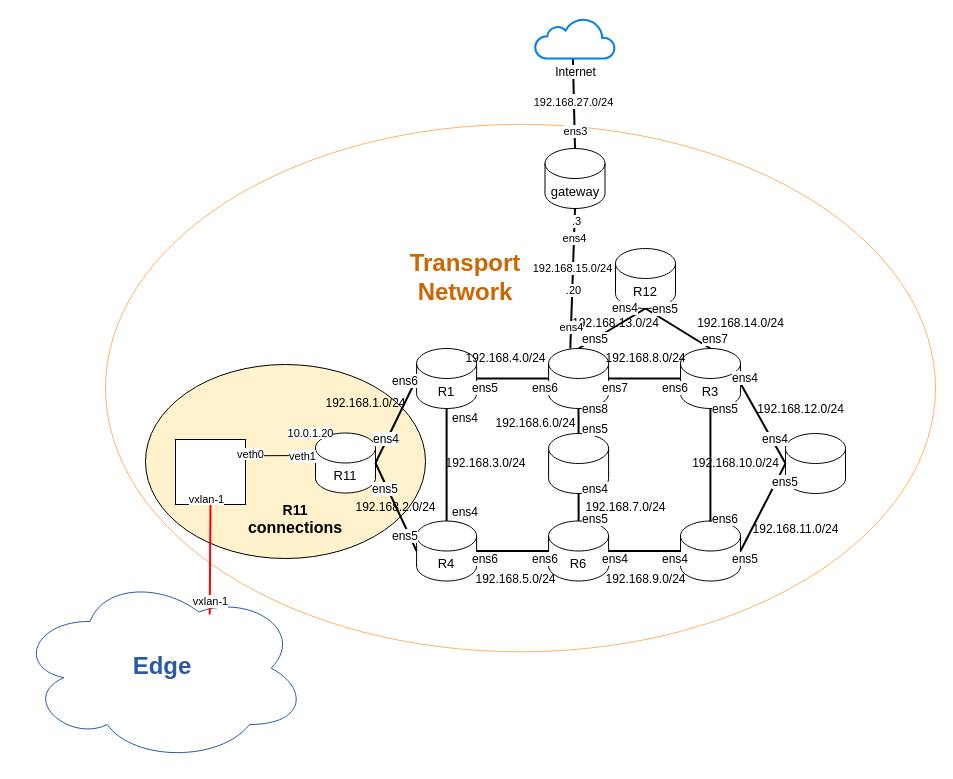
Some shapes in this 953 by 779 pixel diagram are drawn without their labels. The shapes that lost their labels are listed below. From the top down, each one's box as (x1, y1, x2, y2) in pixels, then its label:
(548, 348, 609, 408): R2
(174, 438, 246, 504): br0
(548, 432, 609, 494): R5
(784, 432, 846, 494): R13
(680, 520, 740, 581): R7
